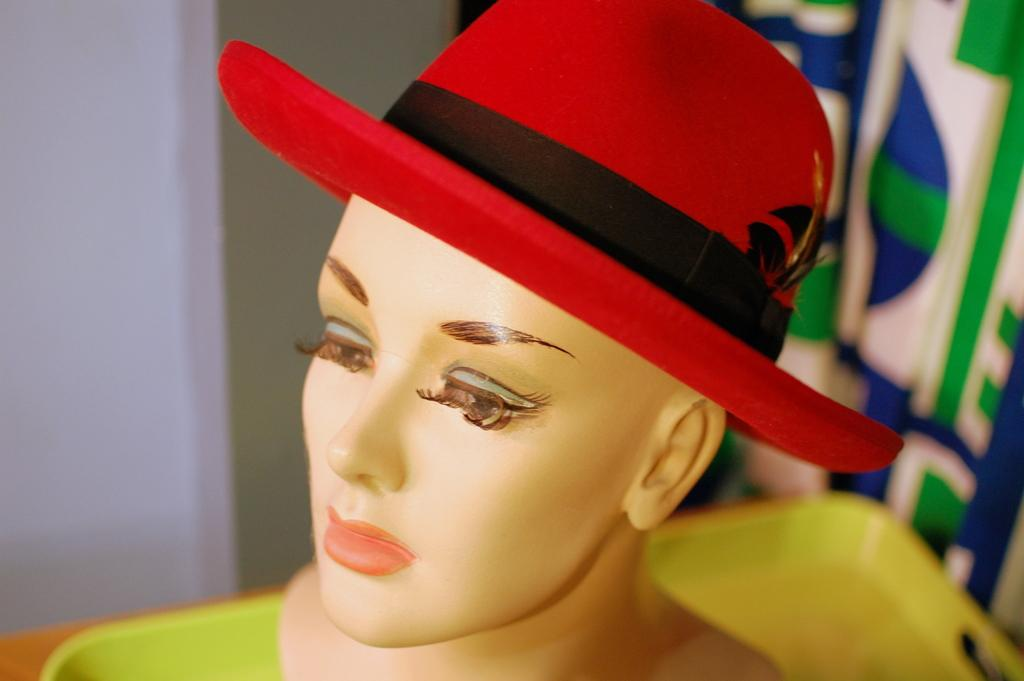Hat: (212, 0, 906, 473)
